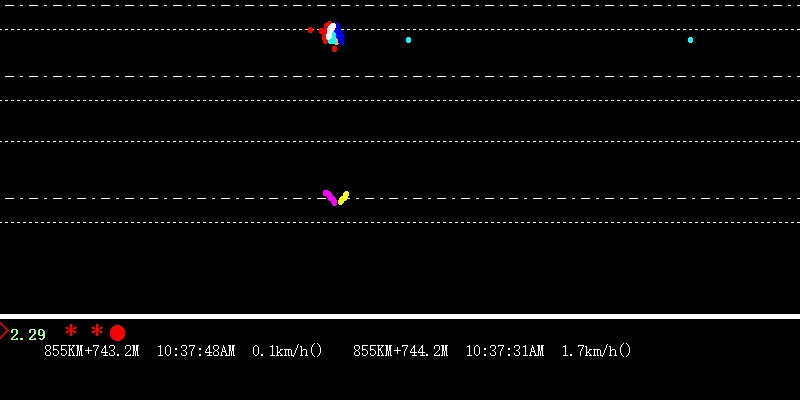circle: (108, 323, 128, 342)
face_2: (319, 19, 344, 54)
star: (62, 321, 80, 340), (91, 320, 104, 339)
